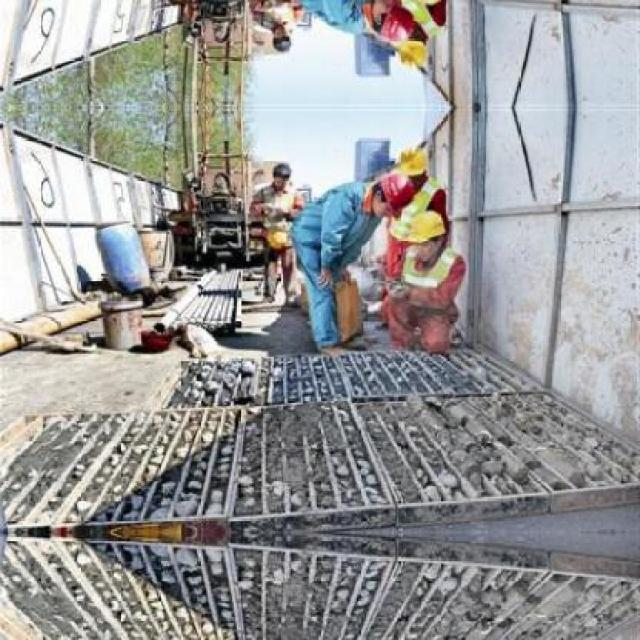Reflective-Jacket: (380, 245, 474, 349), (380, 177, 454, 251), (349, 1, 451, 48)
Safety-Helmet: (394, 204, 455, 250), (384, 140, 436, 185), (266, 155, 299, 183)
